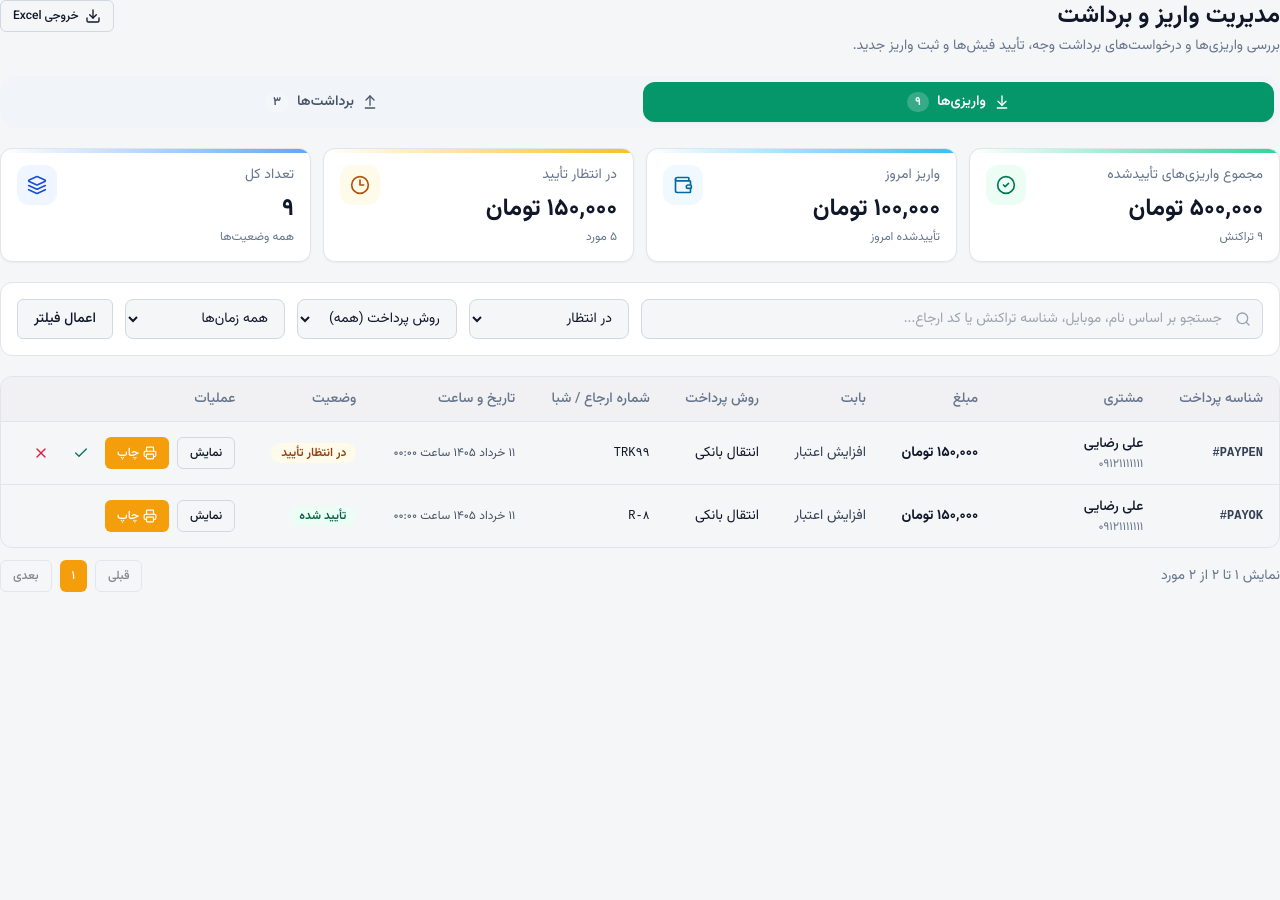
PaymentsManagementPage › opens the details modal from the view button without printing
Click the button with aria-label "مشاهده پرداخت": (206, 453) [177,437,235,469]
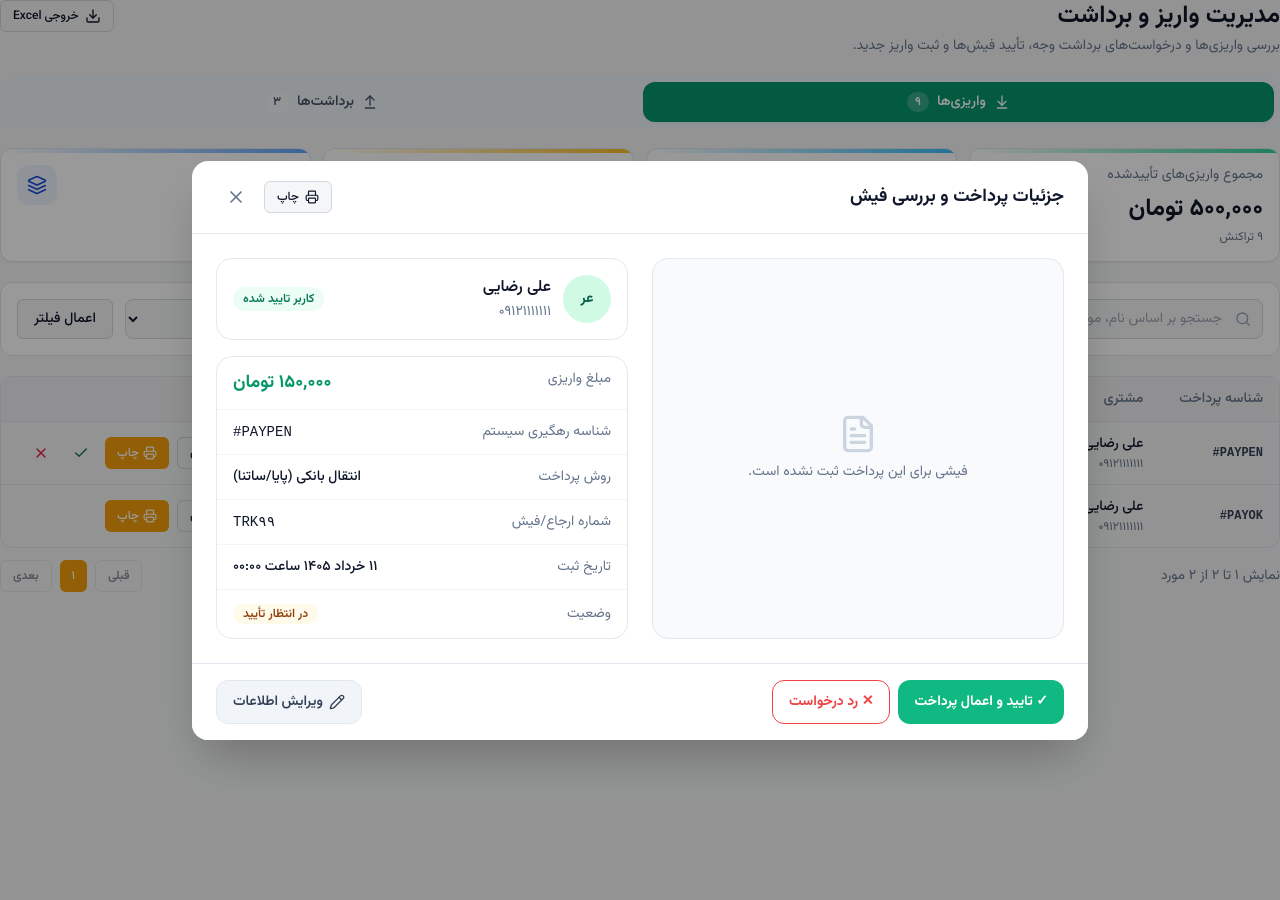
Result: the dialog "جزئیات پرداخت و بررسی فیش" is shown at [192,160,1088,740]
Result: the button "✓ تایید و اعمال پرداخت" is shown at [898,680,1064,724]
Result: the button "✕ رد درخواست" is shown at [772,680,890,724]
